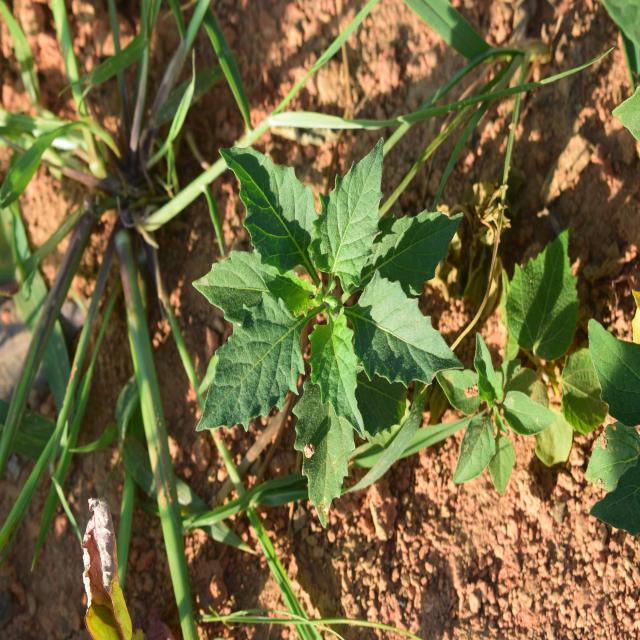Black_nightshade: (192, 119, 430, 465)
